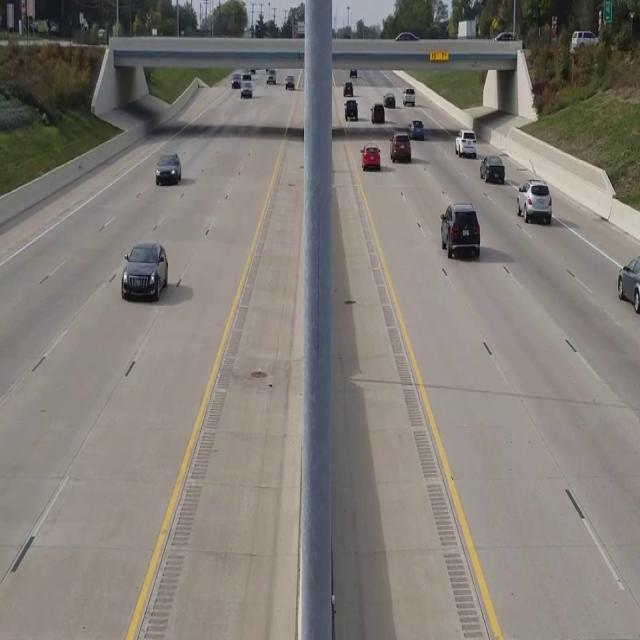car: (121, 242, 168, 301), (440, 203, 480, 258), (516, 179, 551, 224), (616, 254, 640, 316), (155, 152, 181, 185), (480, 155, 505, 183), (390, 130, 411, 162), (454, 129, 476, 158), (360, 144, 380, 170)
